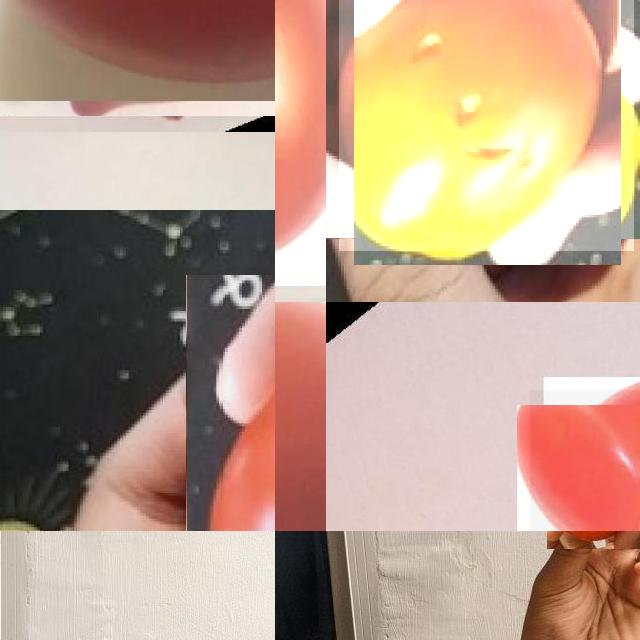Fresh Tomato: (0, 0, 275, 116), (186, 275, 275, 531)
Rotten Tomato: (339, 0, 634, 251), (530, 390, 640, 531)
